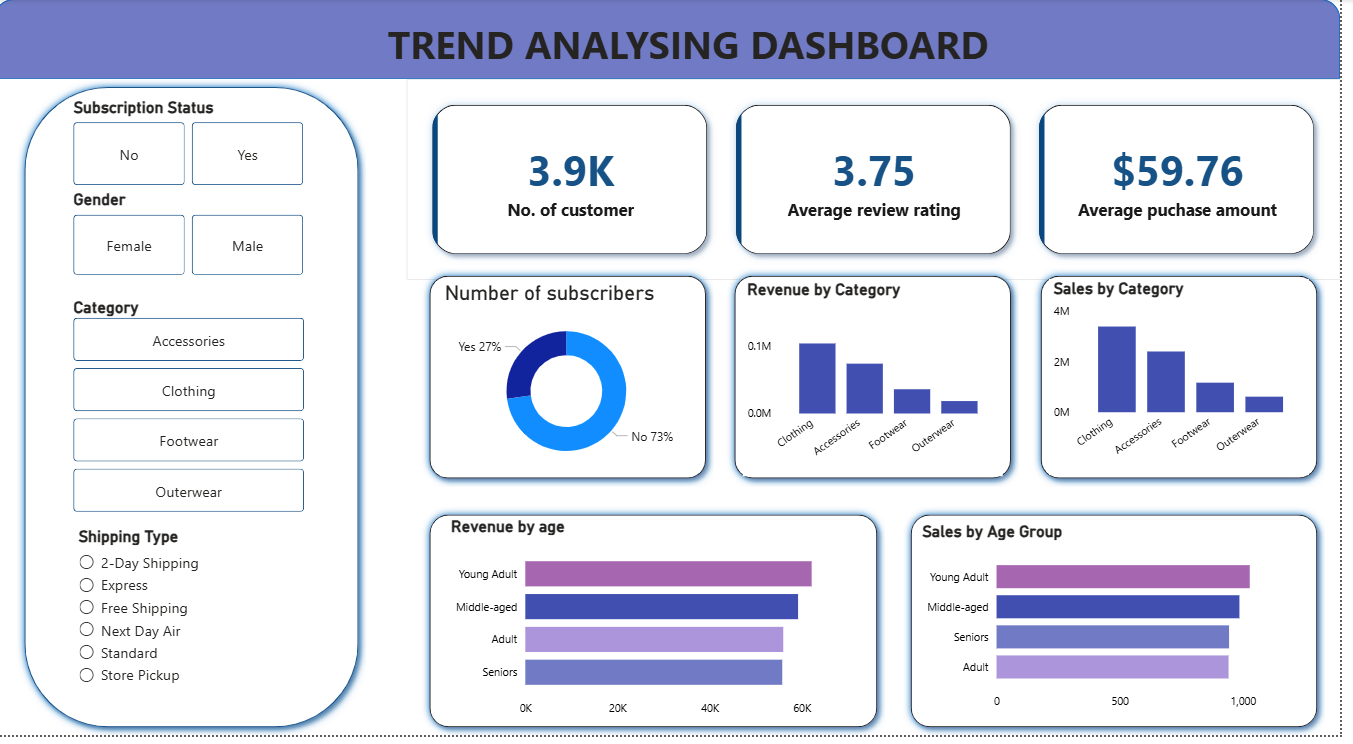

This screenshot's page, from the dashboard's own definition file:
{"tool":"powerbi","page":{"name":"Page 1","canvas":[1500,820],"ordinal":0},"visuals":[{"type":"cardVisual","fields":{"Data":["public customer.No. of customer","public customer.Average review rating","public customer.Average puchase amount"]},"box":[459.6,89.1,1040.3,224.2],"z":0},{"type":"shape","box":[0,0,1499.9,89.1],"z":1000},{"type":"textbox","box":[0,15.3,1499.9,73.8],"z":2000},{"type":"shape","box":[476.3,299.4,325.9,243.7],"z":3000},{"type":"donutChart","title":"Number of subscribers","fields":{"Category":["public customer.subscription_status"],"Y":["CountNonNull(public customer.customer_id)"]},"box":[497.2,313.4,281.3,218.6],"z":4000},{"type":"shape","box":[816.1,299.4,325.9,243.7],"z":5000},{"type":"shape","box":[1157.3,299.4,325.9,243.7],"z":6000},{"type":"clusteredColumnChart","title":"Revenue by Category","fields":{"Y":["Sum(public customer.purchase_amount)"],"Category":["public customer.category"]},"box":[834.2,313.4,289.7,218.6],"z":7000},{"type":"clusteredColumnChart","title":"Sales by Category","fields":{"Y":["Sum(public customer.customer_id)"],"Category":["public customer.category"]},"box":[1175.4,312,289.7,218.6],"z":8000},{"type":"shape","box":[25.1,89.1,389.9,731.2],"z":9000},{"type":"advancedSlicerVisual","title":"Subscription Status","fields":{"Values":["public customer.subscription_status"]},"box":[83.6,110,267.4,103.1],"z":10000},{"type":"advancedSlicerVisual","title":"Gender","fields":{"Values":["public customer.gender"]},"box":[83.6,213.1,267.4,100.3],"z":10001},{"type":"advancedSlicerVisual","title":"Category","fields":{"Values":["public customer.category"]},"box":[83.6,332.8,267.4,243.7],"z":10002},{"type":"listSlicer","title":"Shipping Type","fields":{"Values":["public customer.shipping_type"]},"box":[89.1,587.7,256.3,207.5],"z":10003},{"type":"shape","box":[476.3,565.4,516.7,254.9],"z":10005},{"type":"clusteredBarChart","title":"Revenue by age","fields":{"Y":["Sum(public customer.purchase_amount)"],"Category":["public customer.age_group"]},"box":[504.1,576.6,462.4,232.6],"z":10006},{"type":"shape","box":[1012.5,565.4,470.7,254.9],"z":10007},{"type":"clusteredBarChart","title":"Sales by Age Group","fields":{"Category":["public customer.age_group"],"Y":["CountNonNull(public customer.customer_id)"]},"box":[1029.2,582.1,437.3,218.6],"z":10008}]}

Visuals, with their boxes in screenshot pixels (x1, y1, x2, y2), scaled from the page's 1500x820 canvas onto the 1353x744 screenshot:
cardVisual - public customer.No. of customer x public customer.Average review rating: Rect(415, 81, 1352, 284)
shape: Rect(0, 0, 1352, 81)
textbox: Rect(0, 14, 1352, 81)
shape: Rect(430, 272, 724, 493)
"Number of subscribers" donutChart: Rect(448, 284, 702, 483)
shape: Rect(736, 272, 1030, 493)
shape: Rect(1044, 272, 1338, 493)
"Revenue by Category" clusteredColumnChart: Rect(752, 284, 1014, 483)
"Sales by Category" clusteredColumnChart: Rect(1060, 283, 1322, 481)
shape: Rect(23, 81, 374, 743)
"Subscription Status" advancedSlicerVisual: Rect(75, 100, 317, 193)
"Gender" advancedSlicerVisual: Rect(75, 193, 317, 284)
"Category" advancedSlicerVisual: Rect(75, 302, 317, 523)
"Shipping Type" listSlicer: Rect(80, 533, 312, 721)
shape: Rect(430, 513, 896, 743)
"Revenue by age" clusteredBarChart: Rect(455, 523, 872, 734)
shape: Rect(913, 513, 1338, 743)
"Sales by Age Group" clusteredBarChart: Rect(928, 528, 1323, 726)
